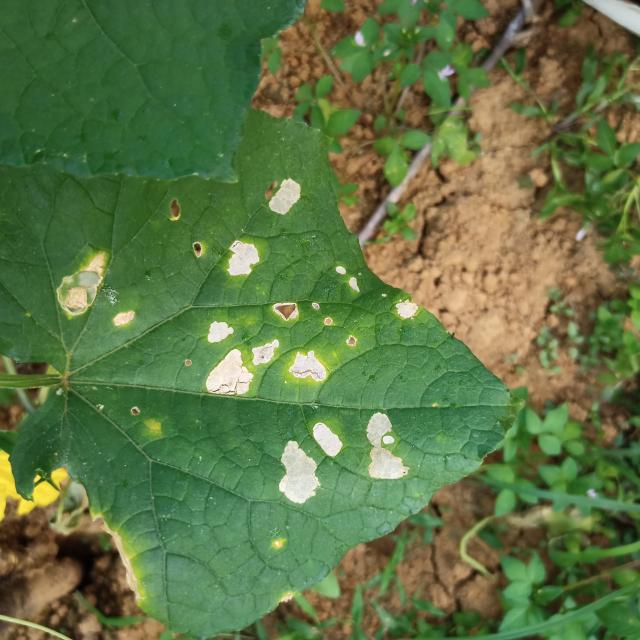disease_cucumber: (205, 300, 332, 398), (56, 251, 137, 328), (278, 421, 345, 505), (362, 411, 412, 483), (226, 240, 262, 280), (268, 177, 301, 216), (333, 263, 364, 297), (392, 296, 418, 322)
